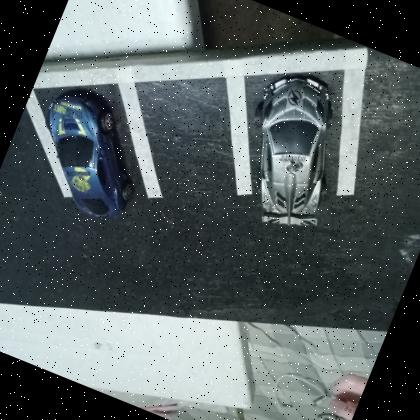Car: (214, 61, 370, 244), (15, 82, 162, 229)
